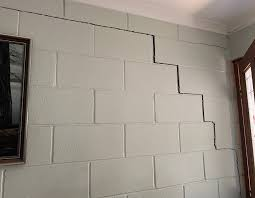stairstep_crack: (0, 4, 242, 197)
